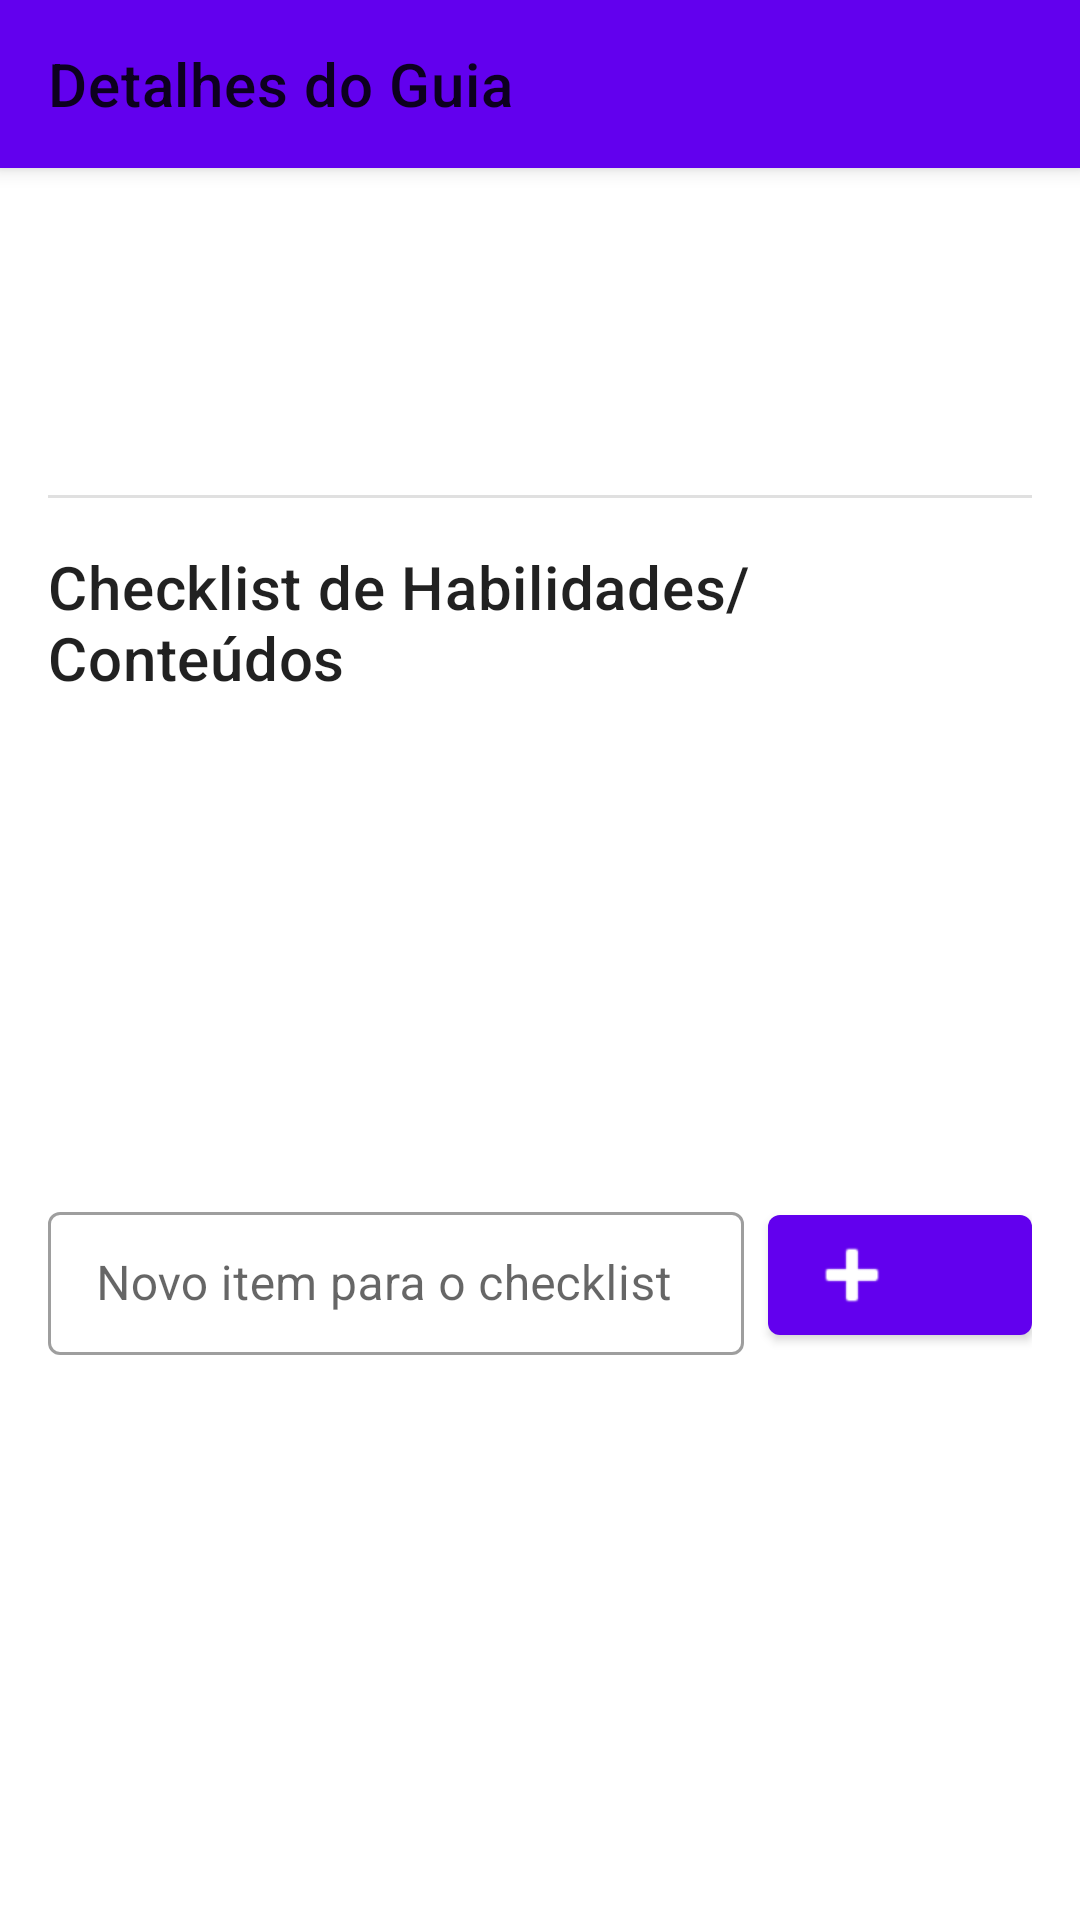

Screen size 1080*1920. Icon name, then its box in pixels as (x1, y1, x2, y2):
add: (768, 1215, 1032, 1339)
